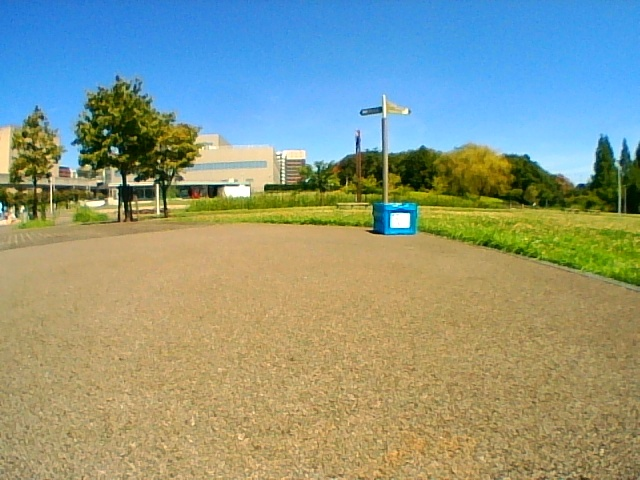blue_box: (374, 203, 415, 234)
tag: (391, 213, 409, 228)
